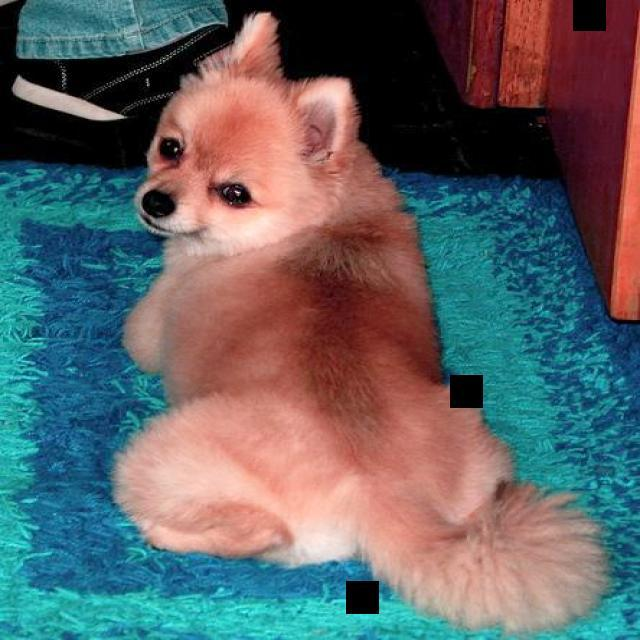puppy-dog: (107, 12, 619, 630)
